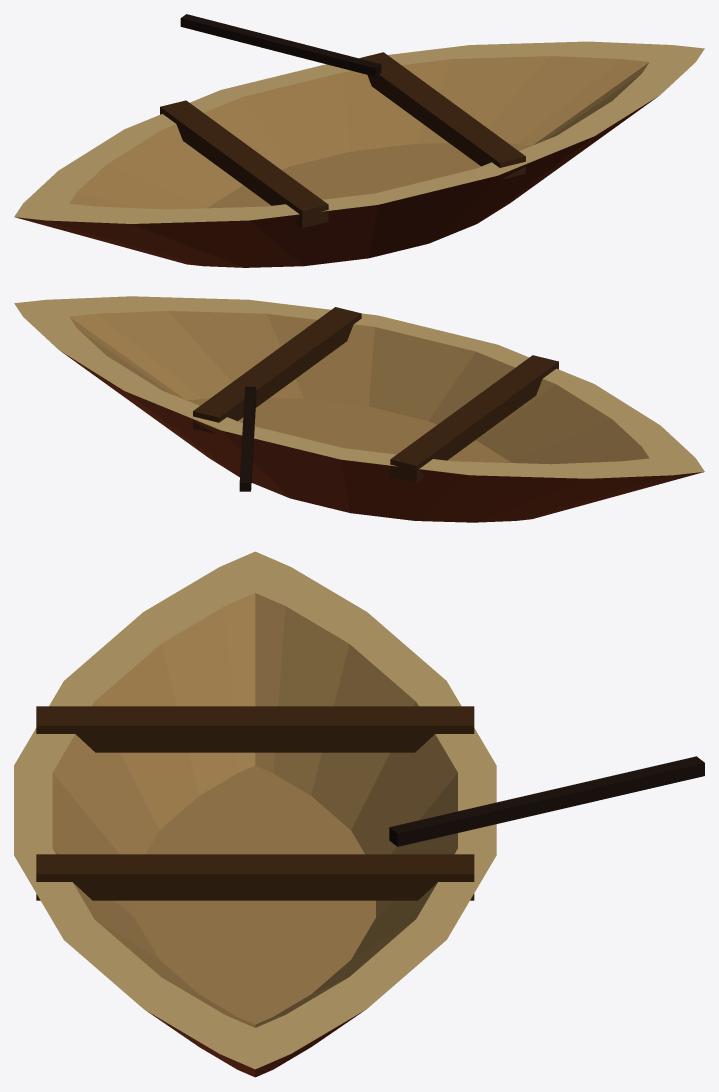
File: coast-boat-a.glb
3 views of the same model, one above another, from view 1: azimuth 30°, elevation 25°; view 2: azimuth 150°, elevation 25°; view 3: azimuth 270°, elevation 25° (orthographic). The views are drawn at different scales.
Parts seen in each view (by area): view 1: boat-a; view 2: boat-a; view 3: boat-a.
Part boxes in pixels (x1,y1,x2,y2): boat-a: [14, 14, 704, 267]; boat-a: [14, 296, 704, 522]; boat-a: [14, 551, 704, 1077].
Bounding box in the file's own units: 4.2 × 0.625 × 2.37.
